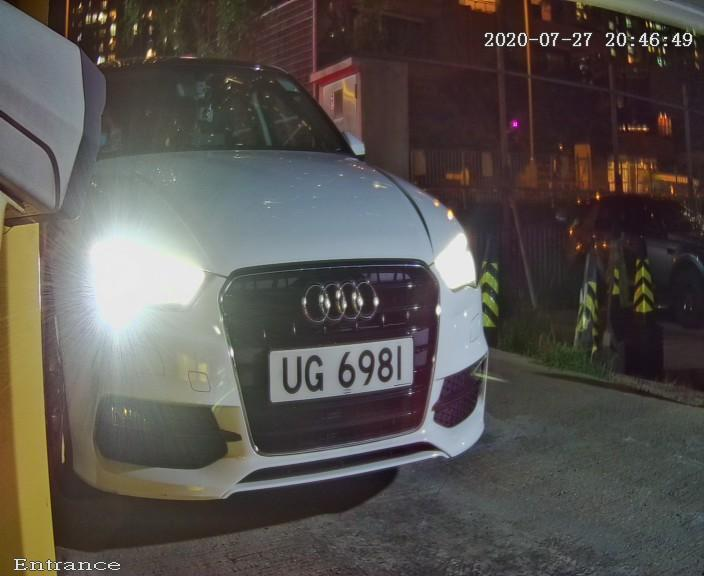privatecar: (45, 26, 507, 520)
